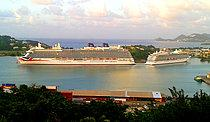Ship: (15, 40, 139, 69), (146, 48, 195, 69)
